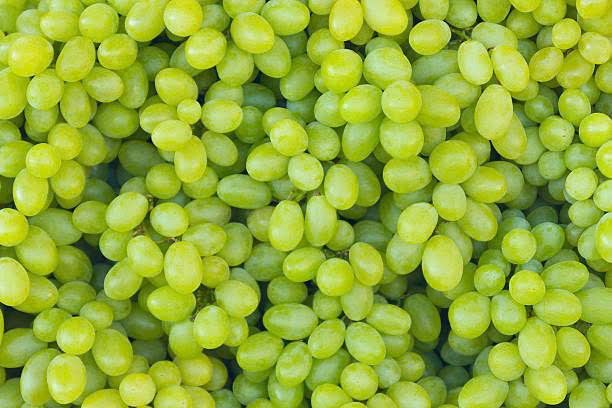grape: (358, 1, 610, 186), (175, 205, 391, 408), (408, 211, 612, 408), (160, 4, 342, 188), (3, 198, 159, 408), (3, 1, 152, 196)
